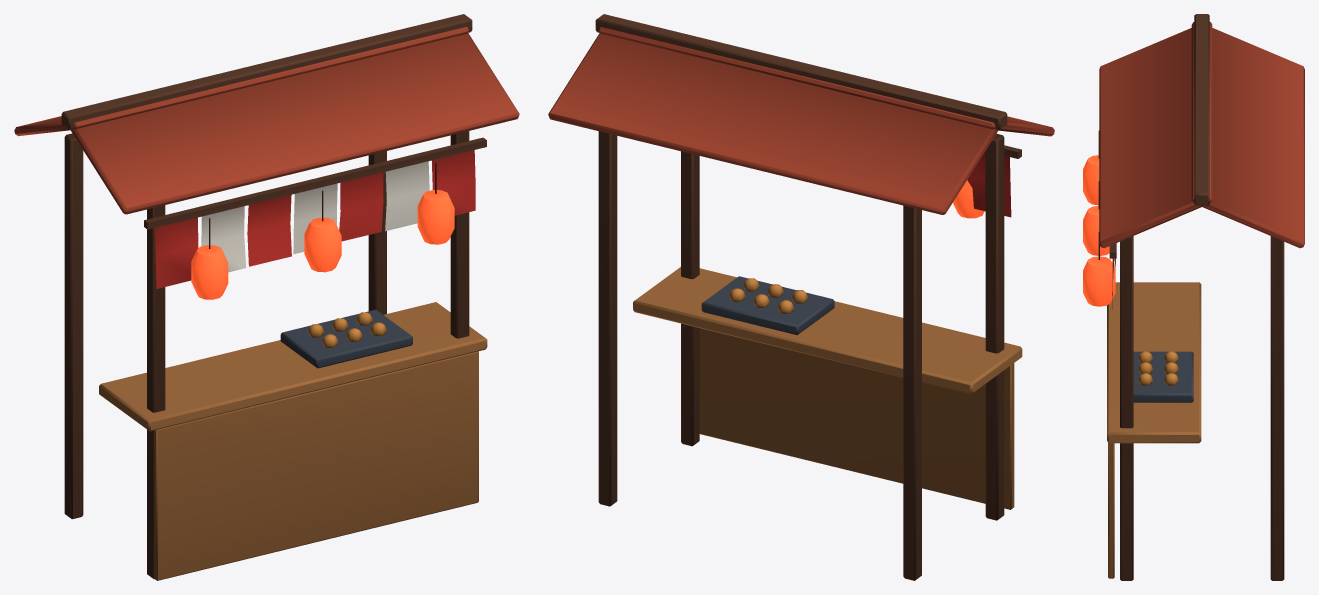
The model's file is festival-stall.glb.
3 renders of one model, left to right at view 1: azimuth 30°, elevation 25°; view 2: azimuth 150°, elevation 25°; view 3: azimuth 270°, elevation 25°, orthographic. The views are drawn at different scales.
Visible parts, largest first — view 1: Festival stall Wood, Festival stall Roof, Festival stall Dark wood, Festival stall Fabric red, Festival stall Fabric cream, Festival stall Lantern glow, Festival stall Iron, Festival stall Takoyaki; view 2: Festival stall Wood, Festival stall Roof, Festival stall Dark wood, Festival stall Iron, Festival stall Fabric red, Festival stall Takoyaki, Festival stall Lantern glow; view 3: Festival stall Roof, Festival stall Dark wood, Festival stall Wood, Festival stall Lantern glow, Festival stall Iron, Festival stall Takoyaki.
Part boxes in pixels (x1,y1,x2,y2): Festival stall Wood: [99, 302, 487, 580]; Festival stall Roof: [14, 27, 519, 214]; Festival stall Dark wood: [61, 14, 486, 579]; Festival stall Fabric red: [155, 150, 475, 288]; Festival stall Fabric cream: [201, 161, 429, 272]; Festival stall Lantern glow: [191, 190, 454, 299]; Festival stall Iron: [280, 309, 412, 368]; Festival stall Takoyaki: [307, 312, 386, 347]; Festival stall Wood: [633, 267, 1022, 509]; Festival stall Roof: [548, 27, 1054, 214]; Festival stall Dark wood: [595, 14, 1021, 580]; Festival stall Iron: [701, 276, 834, 335]; Festival stall Fabric red: [967, 151, 1011, 217]; Festival stall Takoyaki: [729, 278, 808, 313]; Festival stall Lantern glow: [953, 180, 984, 218]; Festival stall Roof: [1099, 22, 1304, 248]; Festival stall Dark wood: [1098, 14, 1284, 580]; Festival stall Wood: [1107, 282, 1201, 578]; Festival stall Lantern glow: [1083, 155, 1115, 306]; Festival stall Iron: [1133, 351, 1193, 402]; Festival stall Takoyaki: [1138, 351, 1178, 385].
Size of the model in its own units: 2.5 by 2.62 by 1.3.
